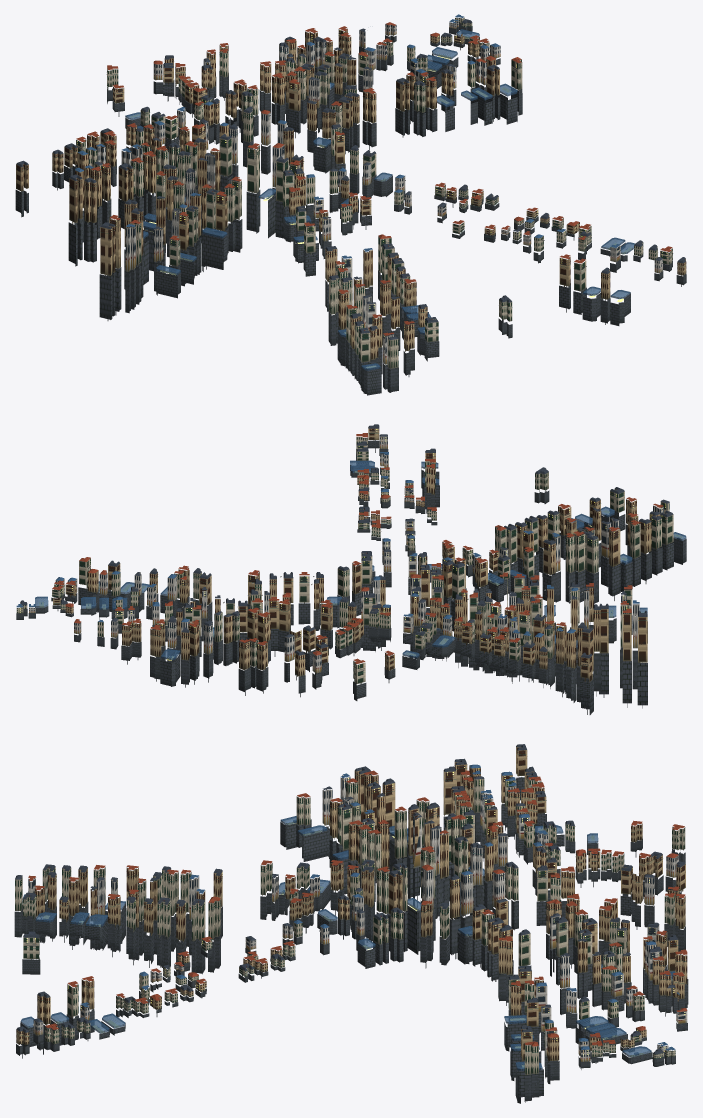
The model's file is osm_buildings_T_W01_S01_Q2.glb.
3 views of the same model, one above another, from view 1: azimuth 30°, elevation 25°; view 2: azimuth 150°, elevation 25°; view 3: azimuth 270°, elevation 25° (orthographic). The views are drawn at different scales.
Parts seen in each view (by area): view 1: OSM_PBR_T_W01_S01_Q2_foundation, OSM_PBR_T_W01_S01_Q2_wall_french_ochre, OSM_PBR_T_W01_S01_Q2_wall_cream_stucco, OSM_PBR_T_W01_S01_Q2_wall_warm_white, OSM_PBR_T_W01_S01_Q2_roof_terracotta, OSM_PBR_T_W01_S01_Q2_greenhouse_blend, OSM_PBR_T_W01_S01_Q2_roof_mansard_slate, OSM_PBR_T_W01_S01_Q2_wall_pastel_sand, OSM_PBR_T_W01_S01_Q2_roof_mansard_deck, OSM_PBR_T_W01_S01_Q2_roof_mint_metal, OSM_PBR_T_W01_S01_Q2_roof_alpine_blue, OSM_PBR_T_W01_S01_Q2_trim_cornice; view 2: OSM_PBR_T_W01_S01_Q2_foundation, OSM_PBR_T_W01_S01_Q2_wall_french_ochre, OSM_PBR_T_W01_S01_Q2_wall_cream_stucco, OSM_PBR_T_W01_S01_Q2_roof_terracotta, OSM_PBR_T_W01_S01_Q2_wall_warm_white, OSM_PBR_T_W01_S01_Q2_roof_mansard_slate, OSM_PBR_T_W01_S01_Q2_greenhouse_blend, OSM_PBR_T_W01_S01_Q2_wall_pastel_sand, OSM_PBR_T_W01_S01_Q2_roof_mansard_deck, OSM_PBR_T_W01_S01_Q2_roof_alpine_blue, OSM_PBR_T_W01_S01_Q2_roof_mint_metal, OSM_PBR_T_W01_S01_Q2_trim_cornice (+2 smaller); view 3: OSM_PBR_T_W01_S01_Q2_foundation, OSM_PBR_T_W01_S01_Q2_wall_french_ochre, OSM_PBR_T_W01_S01_Q2_wall_cream_stucco, OSM_PBR_T_W01_S01_Q2_wall_pastel_sand, OSM_PBR_T_W01_S01_Q2_roof_terracotta, OSM_PBR_T_W01_S01_Q2_wall_warm_white, OSM_PBR_T_W01_S01_Q2_greenhouse_blend, OSM_PBR_T_W01_S01_Q2_roof_mansard_slate, OSM_PBR_T_W01_S01_Q2_roof_mansard_deck, OSM_PBR_T_W01_S01_Q2_roof_alpine_blue, OSM_PBR_T_W01_S01_Q2_roof_mint_metal, OSM_PBR_T_W01_S01_Q2_trim_cornice (+1 smaller).
Part boxes in pixels (left/top/right/bottom): OSM_PBR_T_W01_S01_Q2_foundation: left=15, top=23, right=686, bottom=395; OSM_PBR_T_W01_S01_Q2_wall_french_ochre: left=16, top=28, right=686, bottom=359; OSM_PBR_T_W01_S01_Q2_wall_cream_stucco: left=76, top=17, right=672, bottom=368; OSM_PBR_T_W01_S01_Q2_wall_warm_white: left=125, top=24, right=620, bottom=364; OSM_PBR_T_W01_S01_Q2_roof_terracotta: left=76, top=22, right=672, bottom=335; OSM_PBR_T_W01_S01_Q2_greenhouse_blend: left=125, top=29, right=634, bottom=370; OSM_PBR_T_W01_S01_Q2_roof_mansard_slate: left=16, top=20, right=685, bottom=339; OSM_PBR_T_W01_S01_Q2_wall_pastel_sand: left=96, top=21, right=662, bottom=330; OSM_PBR_T_W01_S01_Q2_roof_mansard_deck: left=18, top=19, right=684, bottom=369; OSM_PBR_T_W01_S01_Q2_roof_mint_metal: left=16, top=26, right=685, bottom=338; OSM_PBR_T_W01_S01_Q2_roof_alpine_blue: left=75, top=14, right=619, bottom=258; OSM_PBR_T_W01_S01_Q2_trim_cornice: left=16, top=22, right=683, bottom=339; OSM_PBR_T_W01_S01_Q2_foundation: left=16, top=440, right=686, bottom=714; OSM_PBR_T_W01_S01_Q2_wall_french_ochre: left=53, top=428, right=660, bottom=682; OSM_PBR_T_W01_S01_Q2_wall_cream_stucco: left=16, top=437, right=673, bottom=683; OSM_PBR_T_W01_S01_Q2_roof_terracotta: left=52, top=433, right=666, bottom=663; OSM_PBR_T_W01_S01_Q2_wall_warm_white: left=55, top=453, right=663, bottom=673; OSM_PBR_T_W01_S01_Q2_roof_mansard_slate: left=20, top=425, right=673, bottom=658; OSM_PBR_T_W01_S01_Q2_greenhouse_blend: left=35, top=460, right=686, bottom=660; OSM_PBR_T_W01_S01_Q2_wall_pastel_sand: left=29, top=436, right=619, bottom=661; OSM_PBR_T_W01_S01_Q2_roof_mansard_deck: left=21, top=424, right=684, bottom=659; OSM_PBR_T_W01_S01_Q2_roof_alpine_blue: left=16, top=452, right=639, bottom=637; OSM_PBR_T_W01_S01_Q2_roof_mint_metal: left=53, top=433, right=672, bottom=674; OSM_PBR_T_W01_S01_Q2_trim_cornice: left=29, top=430, right=672, bottom=665; OSM_PBR_T_W01_S01_Q2_foundation: left=14, top=777, right=688, bottom=1103; OSM_PBR_T_W01_S01_Q2_wall_french_ochre: left=16, top=746, right=687, bottom=1061; OSM_PBR_T_W01_S01_Q2_wall_cream_stucco: left=15, top=777, right=685, bottom=1074; OSM_PBR_T_W01_S01_Q2_wall_pastel_sand: left=33, top=786, right=668, bottom=1052; OSM_PBR_T_W01_S01_Q2_roof_terracotta: left=28, top=770, right=687, bottom=1046; OSM_PBR_T_W01_S01_Q2_wall_warm_white: left=28, top=775, right=687, bottom=1061; OSM_PBR_T_W01_S01_Q2_greenhouse_blend: left=20, top=816, right=674, bottom=1070; OSM_PBR_T_W01_S01_Q2_roof_mansard_slate: left=15, top=744, right=685, bottom=1054; OSM_PBR_T_W01_S01_Q2_roof_mansard_deck: left=18, top=744, right=683, bottom=1070; OSM_PBR_T_W01_S01_Q2_roof_alpine_blue: left=81, top=764, right=679, bottom=1050; OSM_PBR_T_W01_S01_Q2_roof_mint_metal: left=16, top=751, right=685, bottom=1058; OSM_PBR_T_W01_S01_Q2_trim_cornice: left=16, top=747, right=686, bottom=1057.
Bounding box in the file's own units: 984 × 215 × 999.
18 materials, 16 textured.
